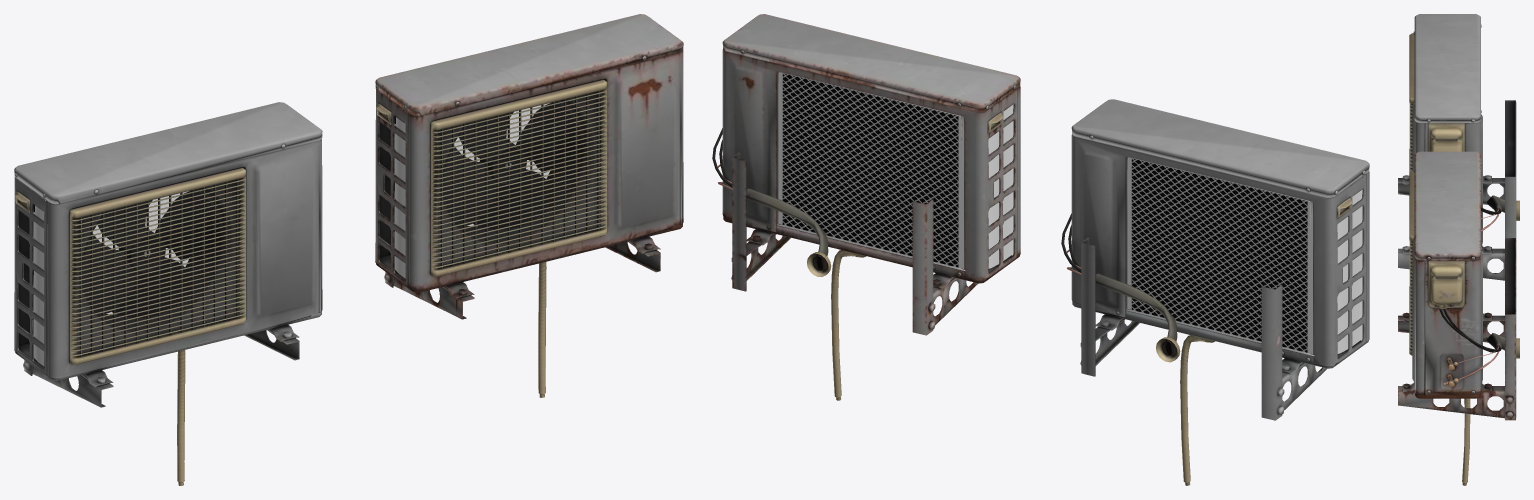
File: aircon-compressors.999b3551a5.glb
3 views of the same model, side by side, from view 1: azimuth 30°, elevation 25°; view 2: azimuth 150°, elevation 25°; view 3: azimuth 270°, elevation 25° (orthographic). The views are drawn at different scales.
Parts seen in each view (by area): view 1: exterior_aircon_unit, exterior_aircon_unit_rusted; view 2: exterior_aircon_unit, exterior_aircon_unit_rusted; view 3: exterior_aircon_unit_rusted, exterior_aircon_unit.
Boxes of the visible parts, x1=… form: exterior_aircon_unit: x1=14, y1=102, x2=322, y2=485; exterior_aircon_unit_rusted: x1=375, y1=14, x2=683, y2=397; exterior_aircon_unit: x1=1061, y1=99, x2=1369, y2=485; exterior_aircon_unit_rusted: x1=712, y1=14, x2=1020, y2=400; exterior_aircon_unit_rusted: x1=1398, y1=151, x2=1519, y2=485; exterior_aircon_unit: x1=1398, y1=14, x2=1519, y2=280.
Size of the model in its own units: 1.8 by 0.9279 by 0.3742.
4 materials, 4 textured.
